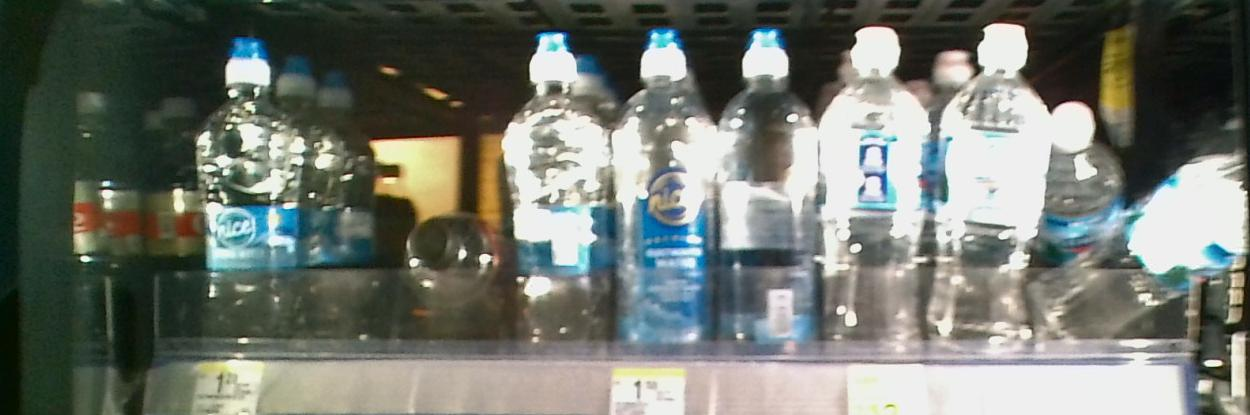bottle: (939, 21, 1050, 351), (502, 29, 616, 340), (192, 30, 301, 347), (826, 23, 931, 351), (720, 29, 819, 356), (623, 23, 716, 345), (400, 185, 495, 317)
